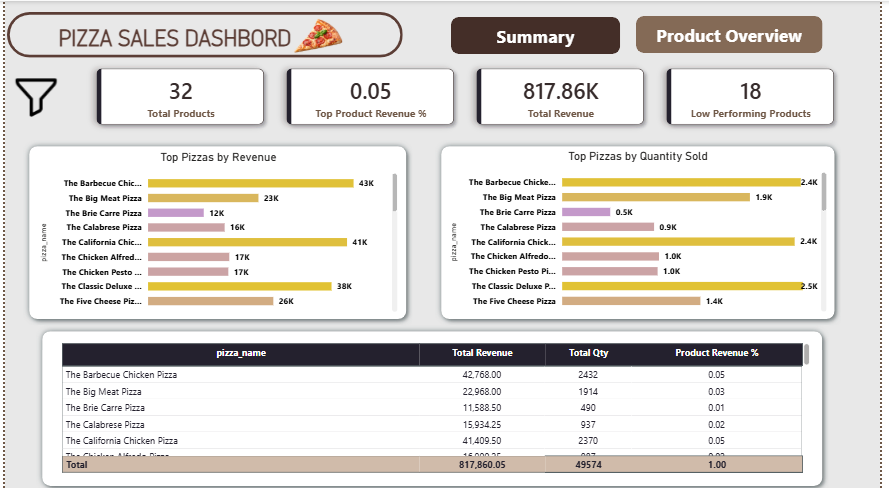

What the dashboard file says about the page in this screenshot:
{"tool":"powerbi","page":{"name":"Product overview","canvas":[1280,720],"ordinal":1},"visuals":[{"type":"shape","box":[26.6,203.2,569.9,271],"z":1000},{"type":"shape","box":[45.2,474.2,1159.7,244.4],"z":2000},{"type":"shape","box":[629.7,203.2,593.8,271],"z":3000},{"type":"cardVisual","fields":{"Data":["pizza_sales.Total Products","pizza_sales.Top Product Revenue %","pizza_sales.Total Revenue","pizza_sales.Low Performing Products"]},"box":[101,66.4,1146.4,148.8],"z":5000},{"type":"clusteredBarChart","title":"Top Pizzas by Revenue","fields":{"Category":["pizza_sales.pizza_name"],"Y":["pizza_sales.Total Revenue"]},"box":[45.2,217.9,534,241.8],"z":6000},{"type":"clusteredBarChart","title":"Top Pizzas by Quantity Sold","fields":{"Category":["pizza_sales.pizza_name"],"Y":["pizza_sales.Total Qty"]},"box":[645.6,216.5,561.9,243.1],"z":7000},{"type":"tableEx","fields":{"Values":["pizza_sales.pizza_name","pizza_sales.Total Revenue","pizza_sales.Total Qty","pizza_sales.Product Revenue %"]},"box":[77,496.8,1105.2,199.3],"z":8000},{"type":"actionButton","title":"Filter Button","box":[0,93.3,83.5,93.3],"z":10000},{"type":"actionButton","box":[924,22.5,273,54],"z":11000},{"type":"actionButton","box":[652.5,24,247.5,54],"z":12000},{"type":"group","id":"g1","title":"Group 2","box":[3.4,10.3,579.3,82],"z":13000},{"type":"image","box":[418.7,10.3,82,82],"z":14000,"group":"g1"},{"type":"textbox","box":[73.2,29.3,386.3,52.7],"z":14500,"group":"g1"},{"type":"shape","box":[3.4,15.4,579.3,66.6],"z":15000,"group":"g1"}]}

Visuals, with their boxes in screenshot pixels (x1, y1, x2, y2), scaled from the page's 1280x720 canvas onto the 889x488 screenshot:
shape: BBox(18, 138, 414, 321)
shape: BBox(31, 321, 837, 487)
shape: BBox(437, 138, 850, 321)
cardVisual - pizza_sales.Total Products x pizza_sales.Top Product Revenue %: BBox(70, 45, 866, 146)
"Top Pizzas by Revenue" clusteredBarChart: BBox(31, 148, 402, 312)
"Top Pizzas by Quantity Sold" clusteredBarChart: BBox(448, 147, 839, 312)
tableEx - pizza_sales.pizza_name x pizza_sales.Total Revenue: BBox(53, 337, 821, 472)
"Filter Button" actionButton: BBox(0, 63, 58, 126)
actionButton: BBox(642, 15, 831, 52)
actionButton: BBox(453, 16, 625, 53)
"Group 2" group: BBox(2, 7, 405, 63)
image: BBox(291, 7, 348, 63)
textbox: BBox(51, 20, 319, 56)
shape: BBox(2, 10, 405, 56)
